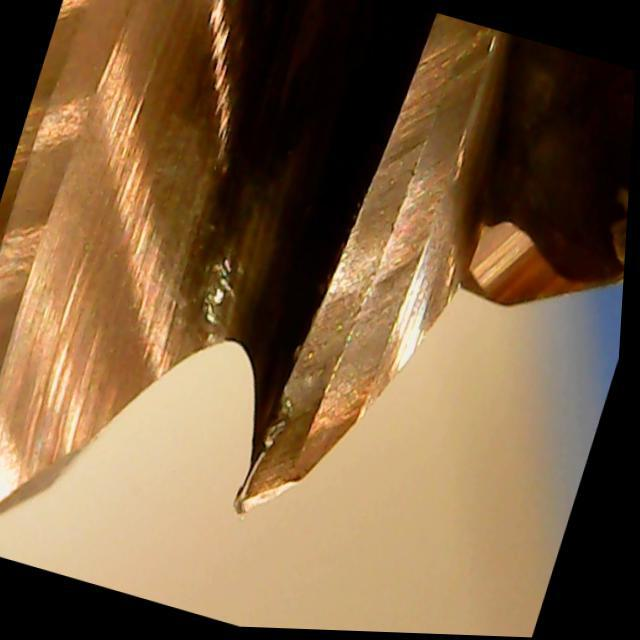Tool-wear-class-1: (229, 218, 444, 550)
